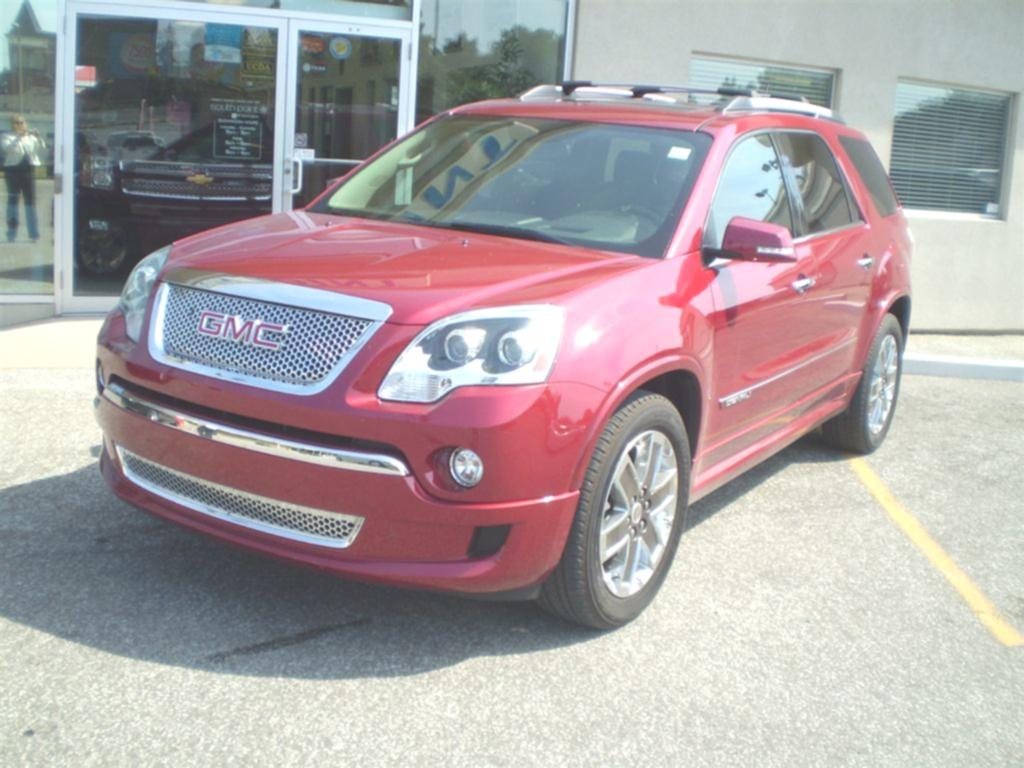GMC: (184, 300, 303, 362)
